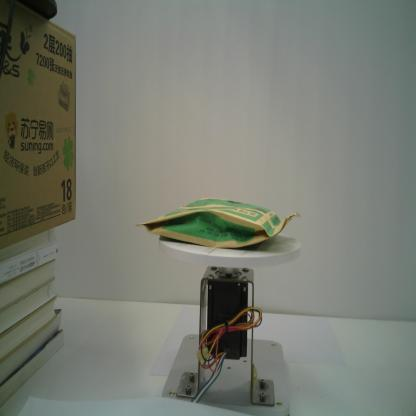Dried Food: (135, 197, 301, 249)
